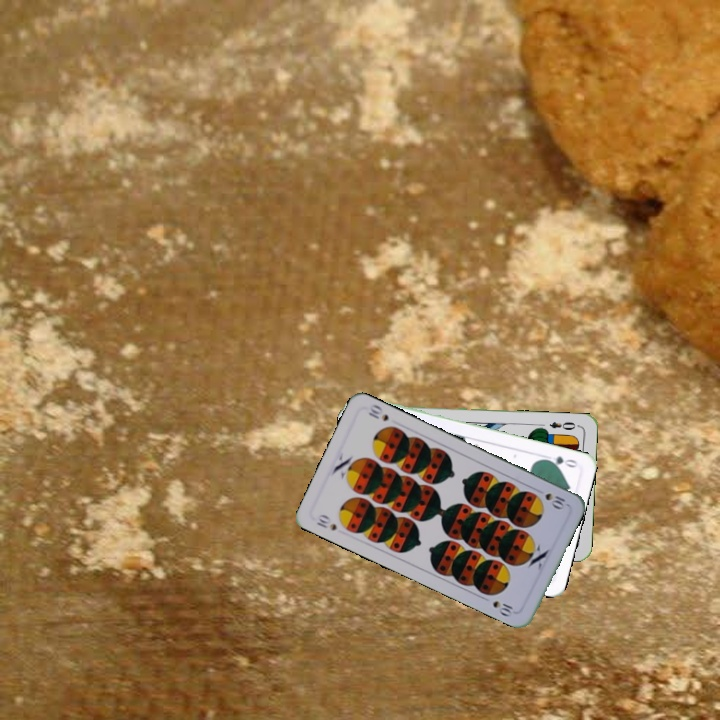EO: (545, 418, 581, 432)
GO: (540, 452, 580, 470)
S10: (532, 486, 570, 511), (312, 510, 339, 533)
